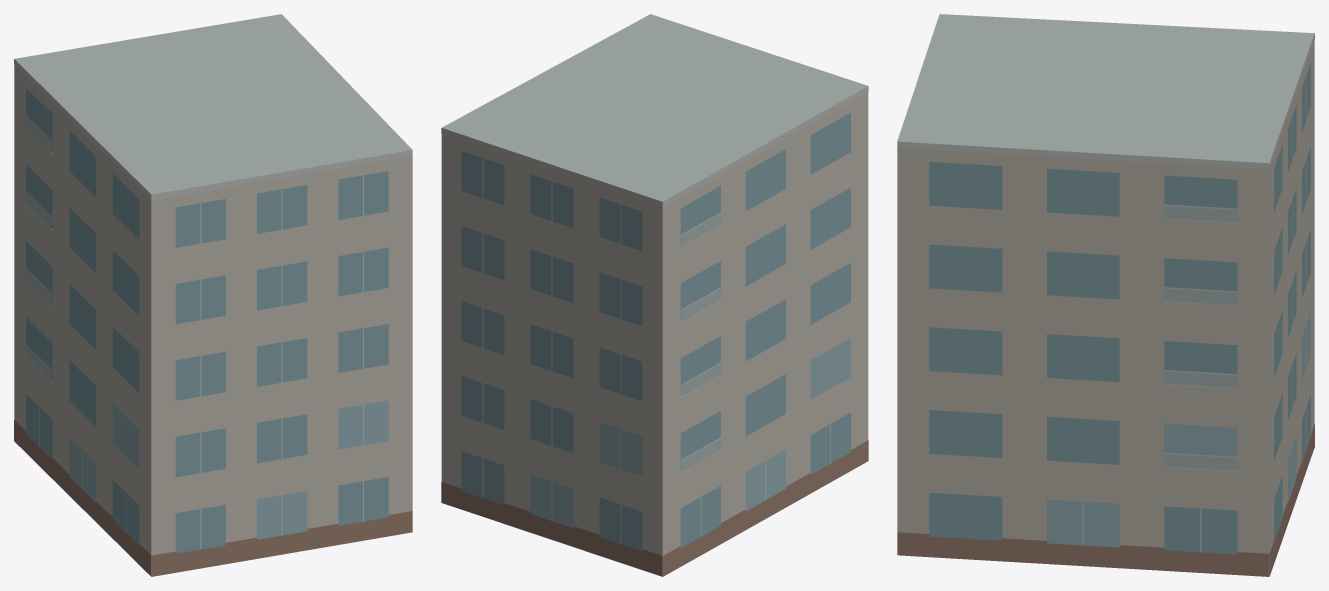
The model's file is survey-upis-32849567.glb.
3 views of the same model, side by side, from view 1: azimuth 30°, elevation 25°; view 2: azimuth 150°, elevation 25°; view 3: azimuth 270°, elevation 25° (orthographic). The views are drawn at different scales.
Visible parts, largest first — view 1: survey-upis-32849567.tmp; view 2: survey-upis-32849567.tmp; view 3: survey-upis-32849567.tmp.
Boxes of the visible parts, bbox=[...] form: survey-upis-32849567.tmp: bbox=[14, 14, 412, 576]; survey-upis-32849567.tmp: bbox=[441, 14, 868, 576]; survey-upis-32849567.tmp: bbox=[897, 14, 1314, 576].
Bounding box in the file's own units: 12.32 × 15.9 × 14.56.
